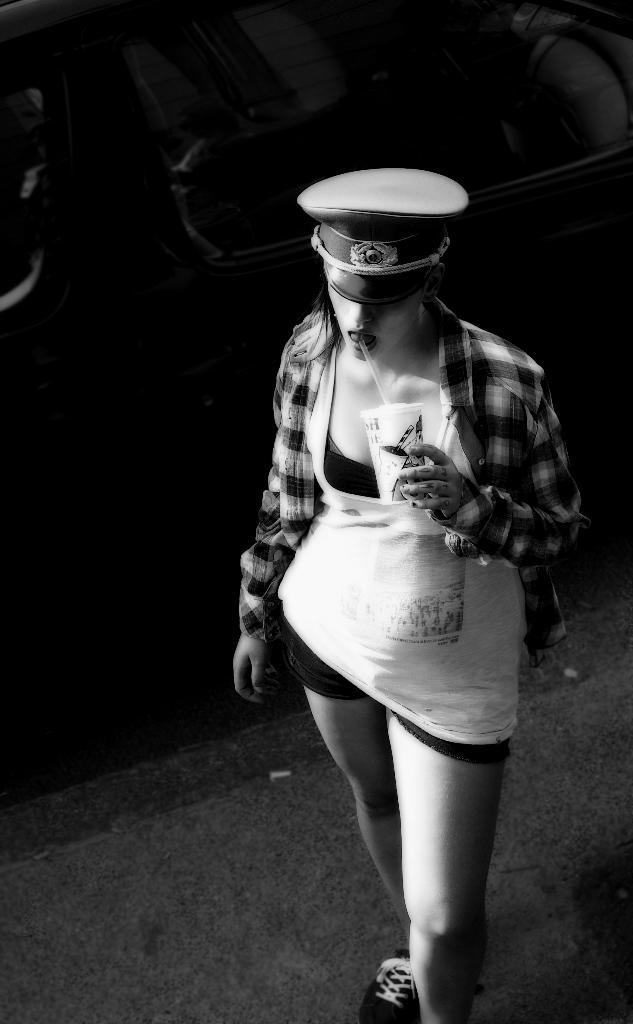Hat: (292, 167, 467, 305)
